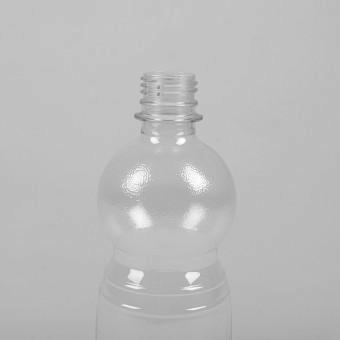bottle: (74, 60, 272, 340)
